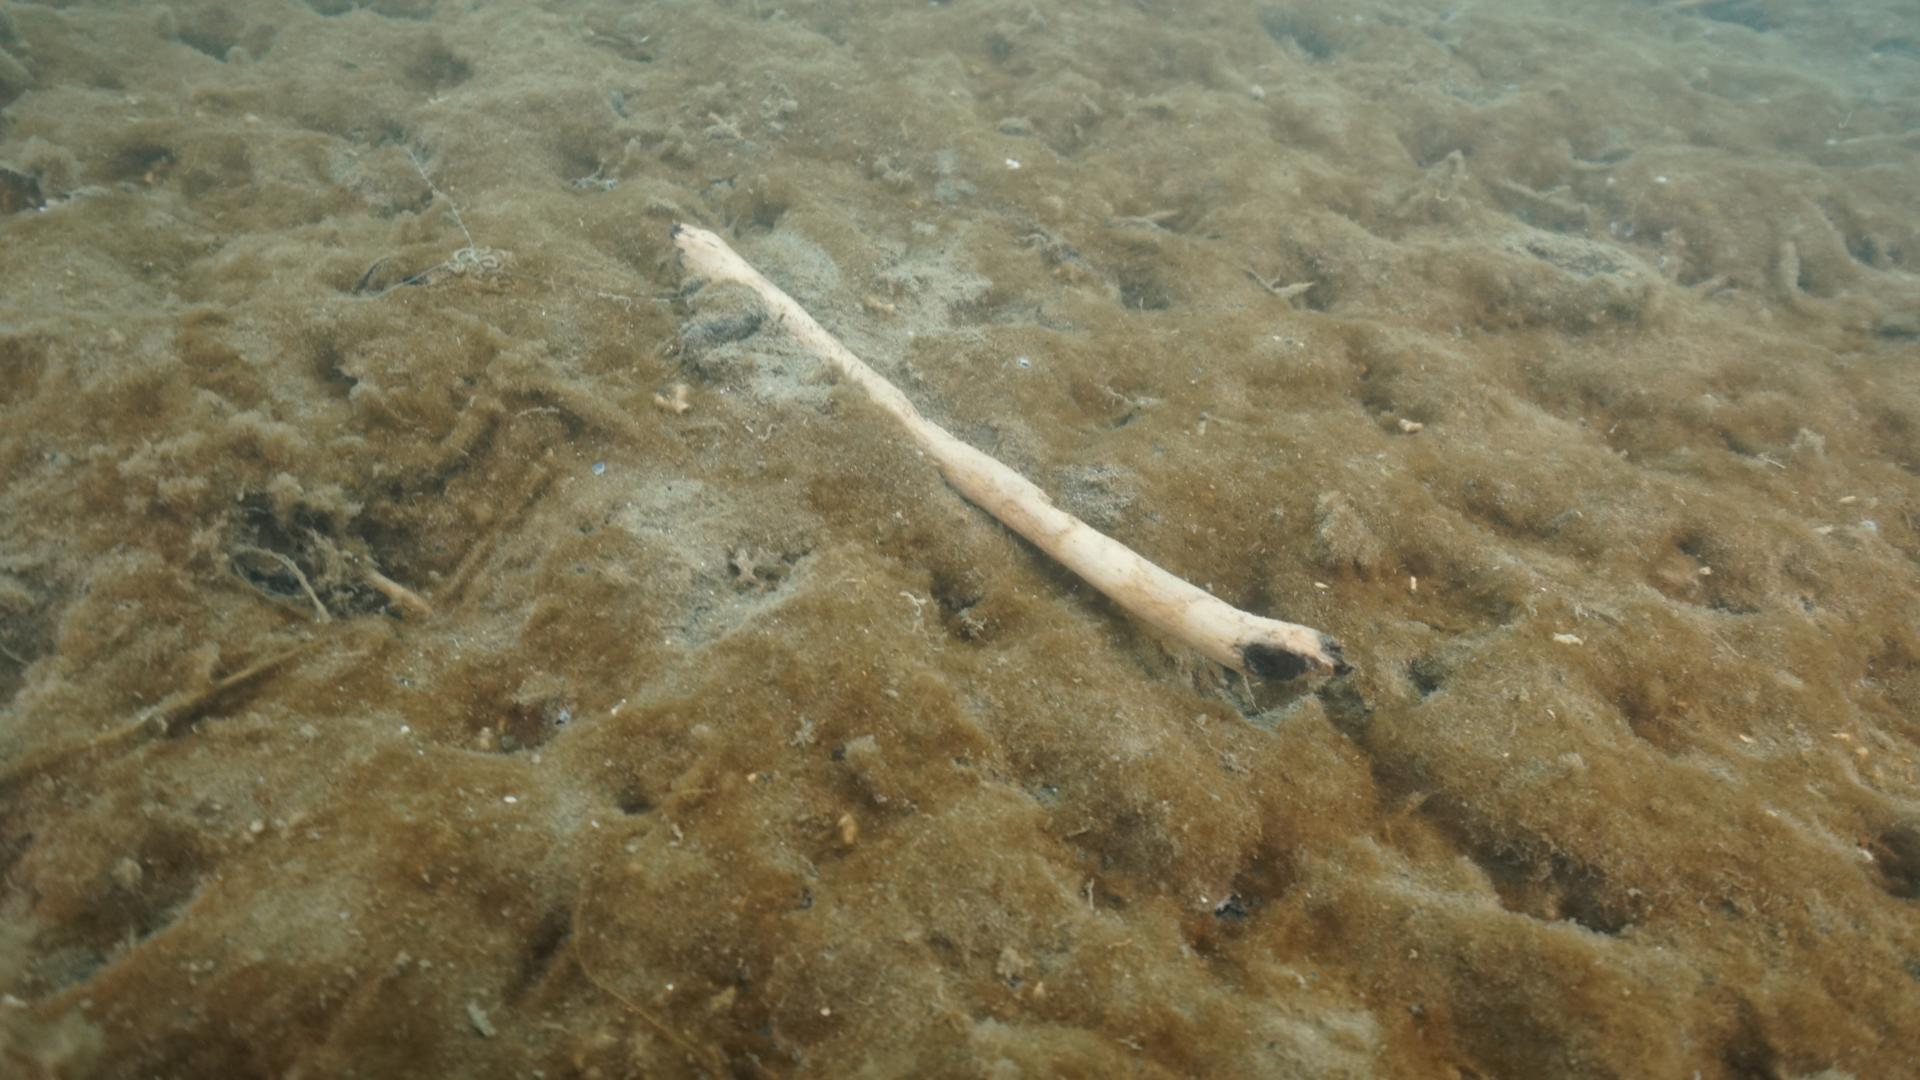wood: (669, 215, 1354, 705)
